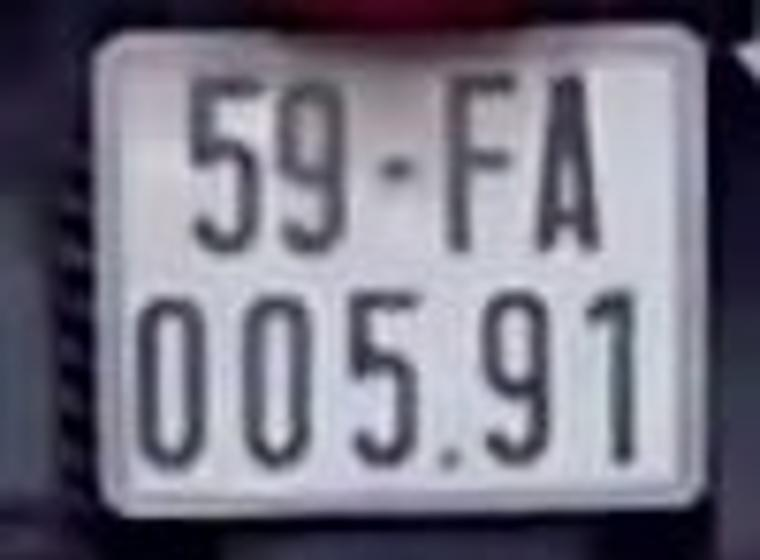-: (371, 144, 427, 189)
.: (439, 445, 468, 477)
0: (131, 299, 217, 468), (240, 287, 317, 469)
1: (588, 286, 654, 468)
5: (182, 64, 269, 254), (342, 282, 424, 461)
9: (278, 74, 362, 263), (474, 281, 554, 466)
A: (533, 69, 611, 256)
F: (441, 69, 522, 262)
